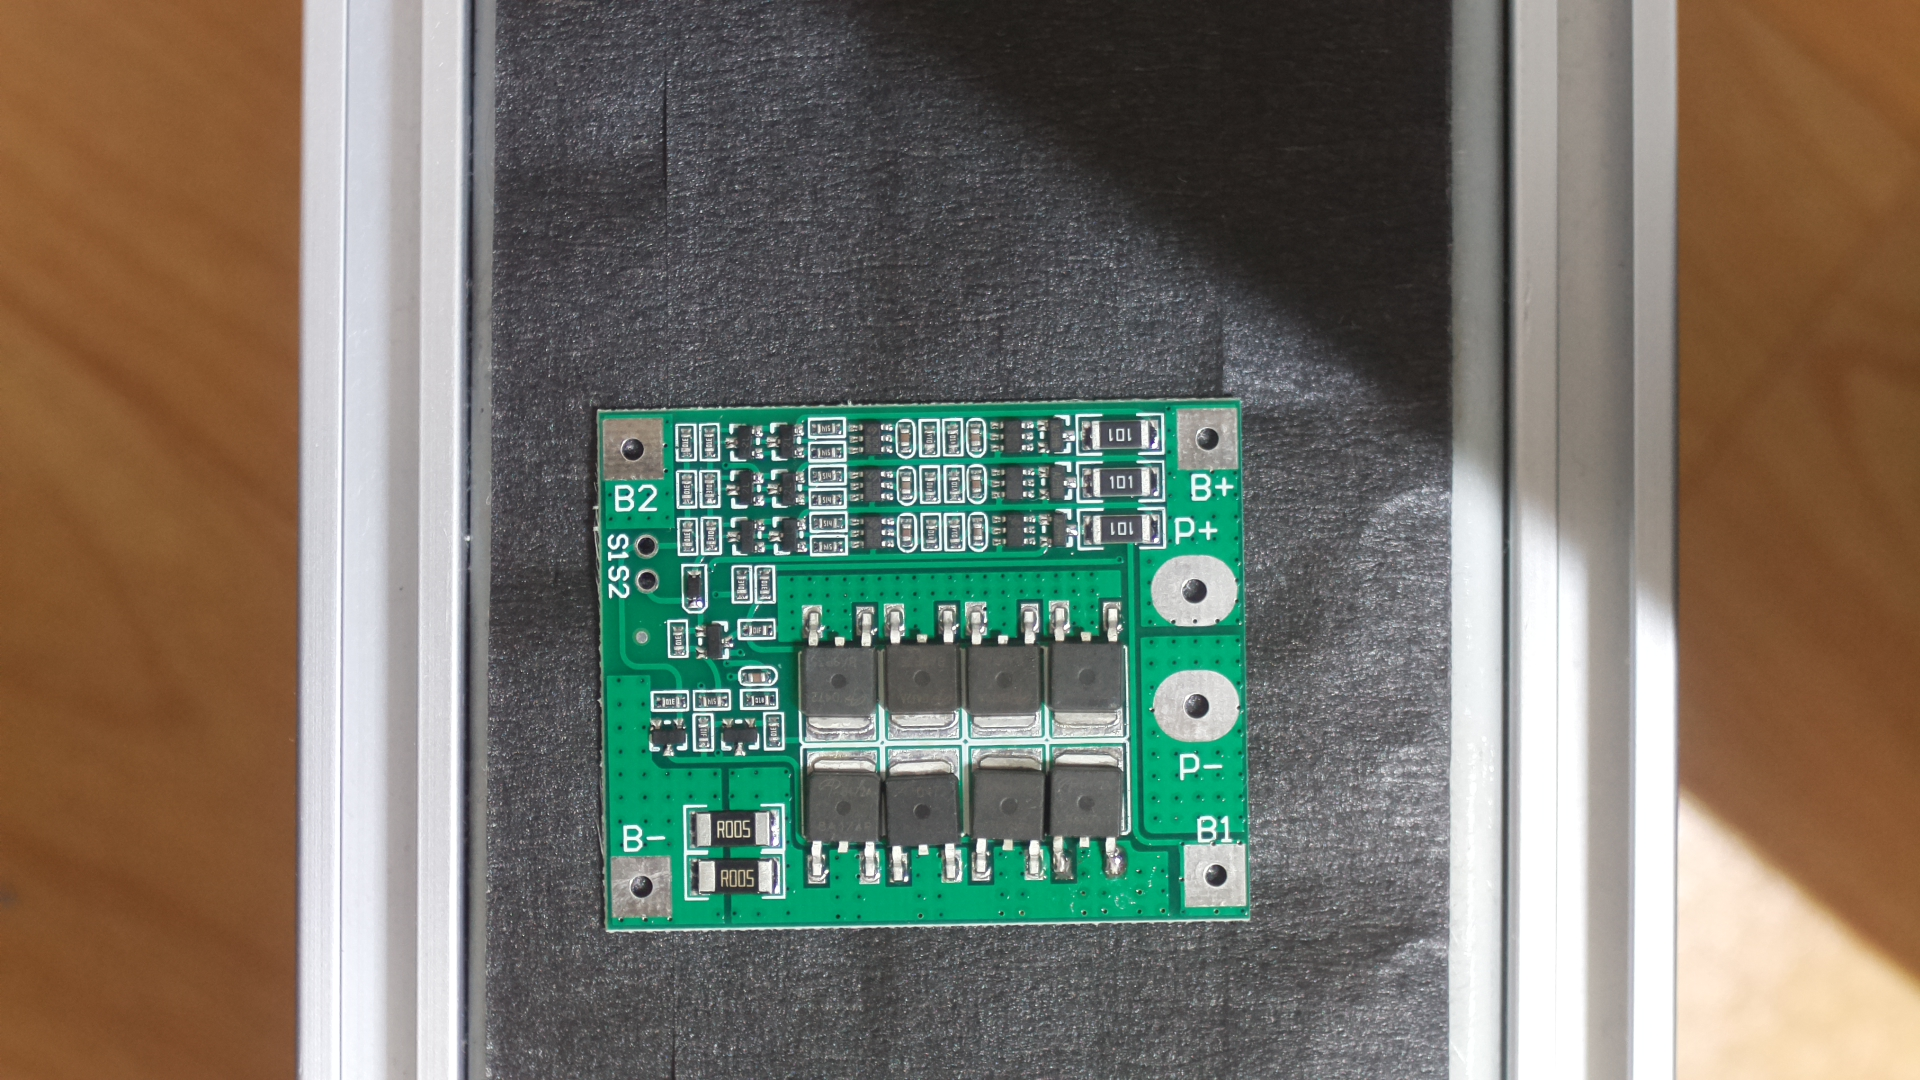C_Normal: (585, 394, 1269, 948)
